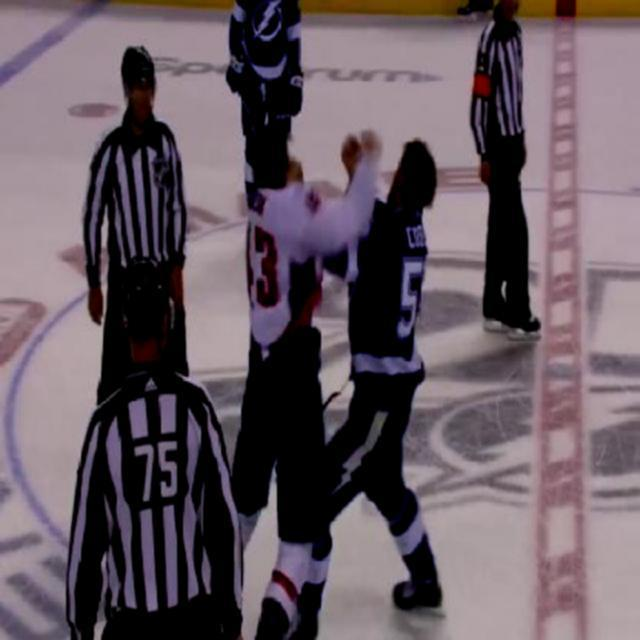fight: (232, 122, 446, 620)
non-fight: (60, 19, 220, 640), (455, 0, 590, 340)
